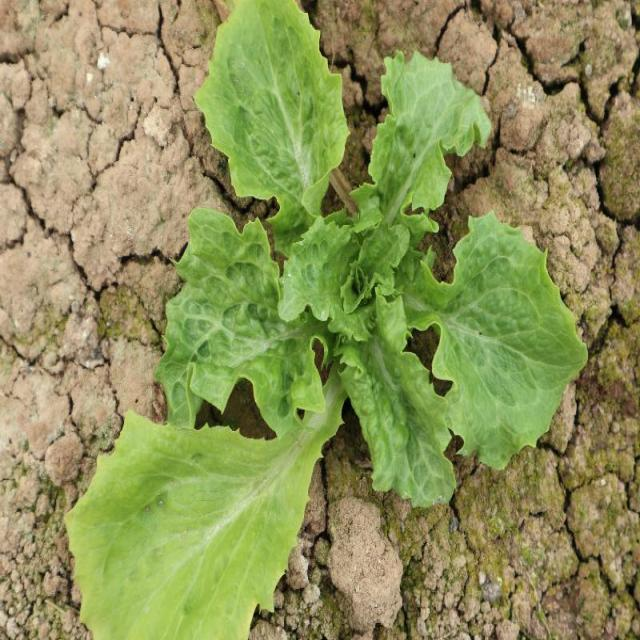crop: (62, 0, 589, 640)
